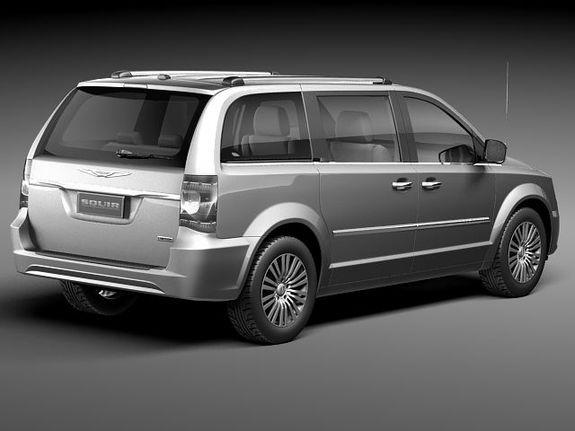car: (11, 70, 560, 345)
